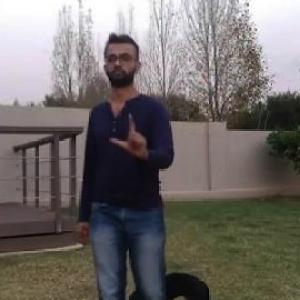land_hand: (109, 103, 149, 160)
